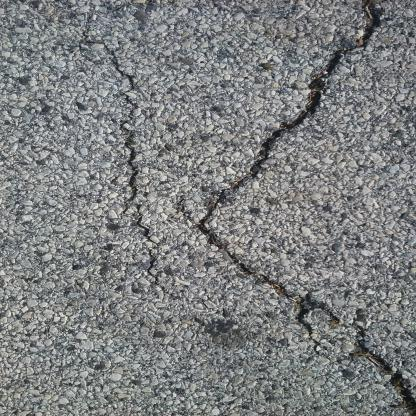Cracks: (193, 0, 415, 415), (99, 42, 167, 265)
